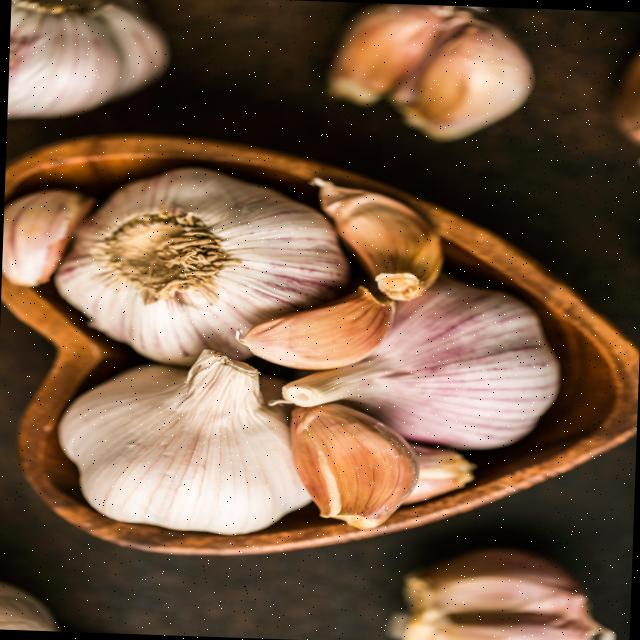garlic: (54, 167, 348, 364), (281, 275, 558, 448), (57, 349, 310, 534), (327, 3, 532, 141), (386, 548, 614, 640), (7, 0, 168, 117), (397, 20, 532, 141), (309, 177, 441, 300), (290, 403, 417, 529), (235, 286, 394, 369), (1, 189, 94, 286)
